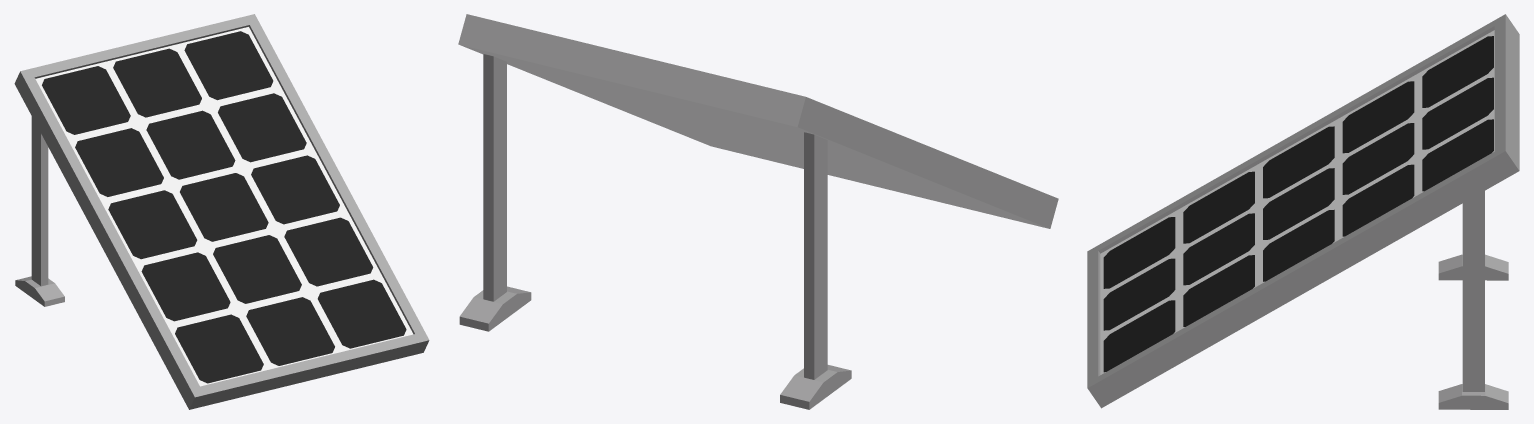
Rendered from SolarPanel_Ground_Cube.obj.
The picture shows the model from 3 angles, left to right: view 1: azimuth 30°, elevation 25°; view 2: azimuth 150°, elevation 25°; view 3: azimuth 270°, elevation 25°; orthographic projection. The views are drawn at different scales.
Parts seen in each view (by area): view 1: SolarPanel_Ground_Cube.017; view 2: SolarPanel_Ground_Cube.017; view 3: SolarPanel_Ground_Cube.017.
Boxes of the visible parts, x1=… form: SolarPanel_Ground_Cube.017: x1=14, y1=14, x2=429, y2=409; SolarPanel_Ground_Cube.017: x1=458, y1=14, x2=1058, y2=409; SolarPanel_Ground_Cube.017: x1=1087, y1=14, x2=1519, y2=409.
Bounding box in the file's own units: 1.29 × 1.1 × 1.67.
